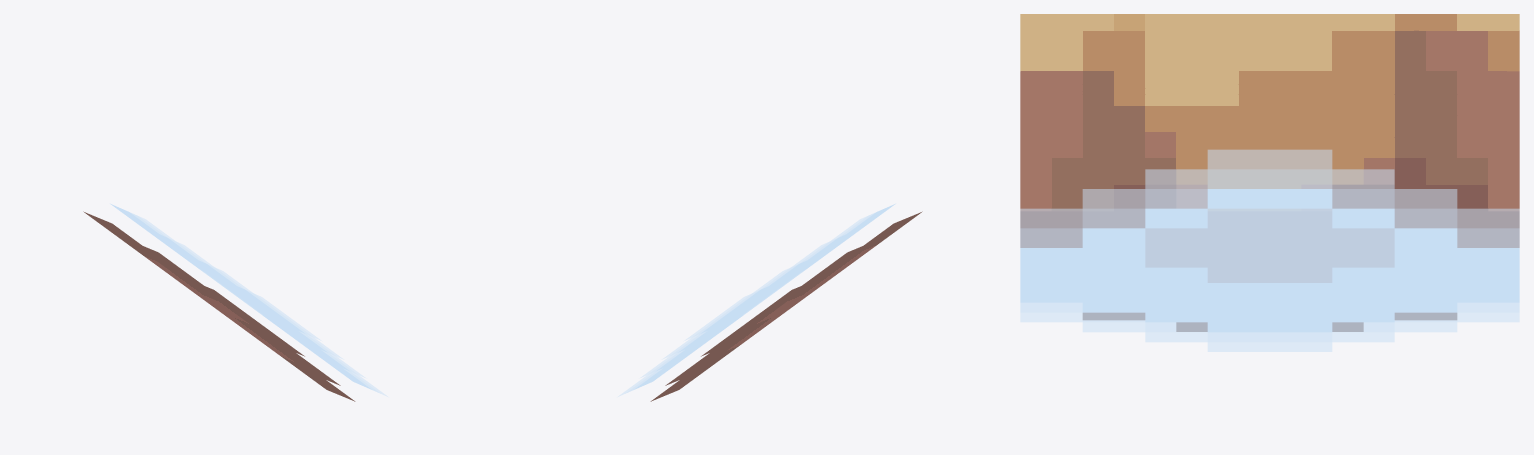
The picture shows the model from 3 angles, left to right: view 1: azimuth 30°, elevation 25°; view 2: azimuth 150°, elevation 25°; view 3: azimuth 270°, elevation 25°; orthographic projection. The views are drawn at different scales.
Bounding box in the file's own units: 0.5459 × 0.6892 × 1.
2 materials, 2 textured.
